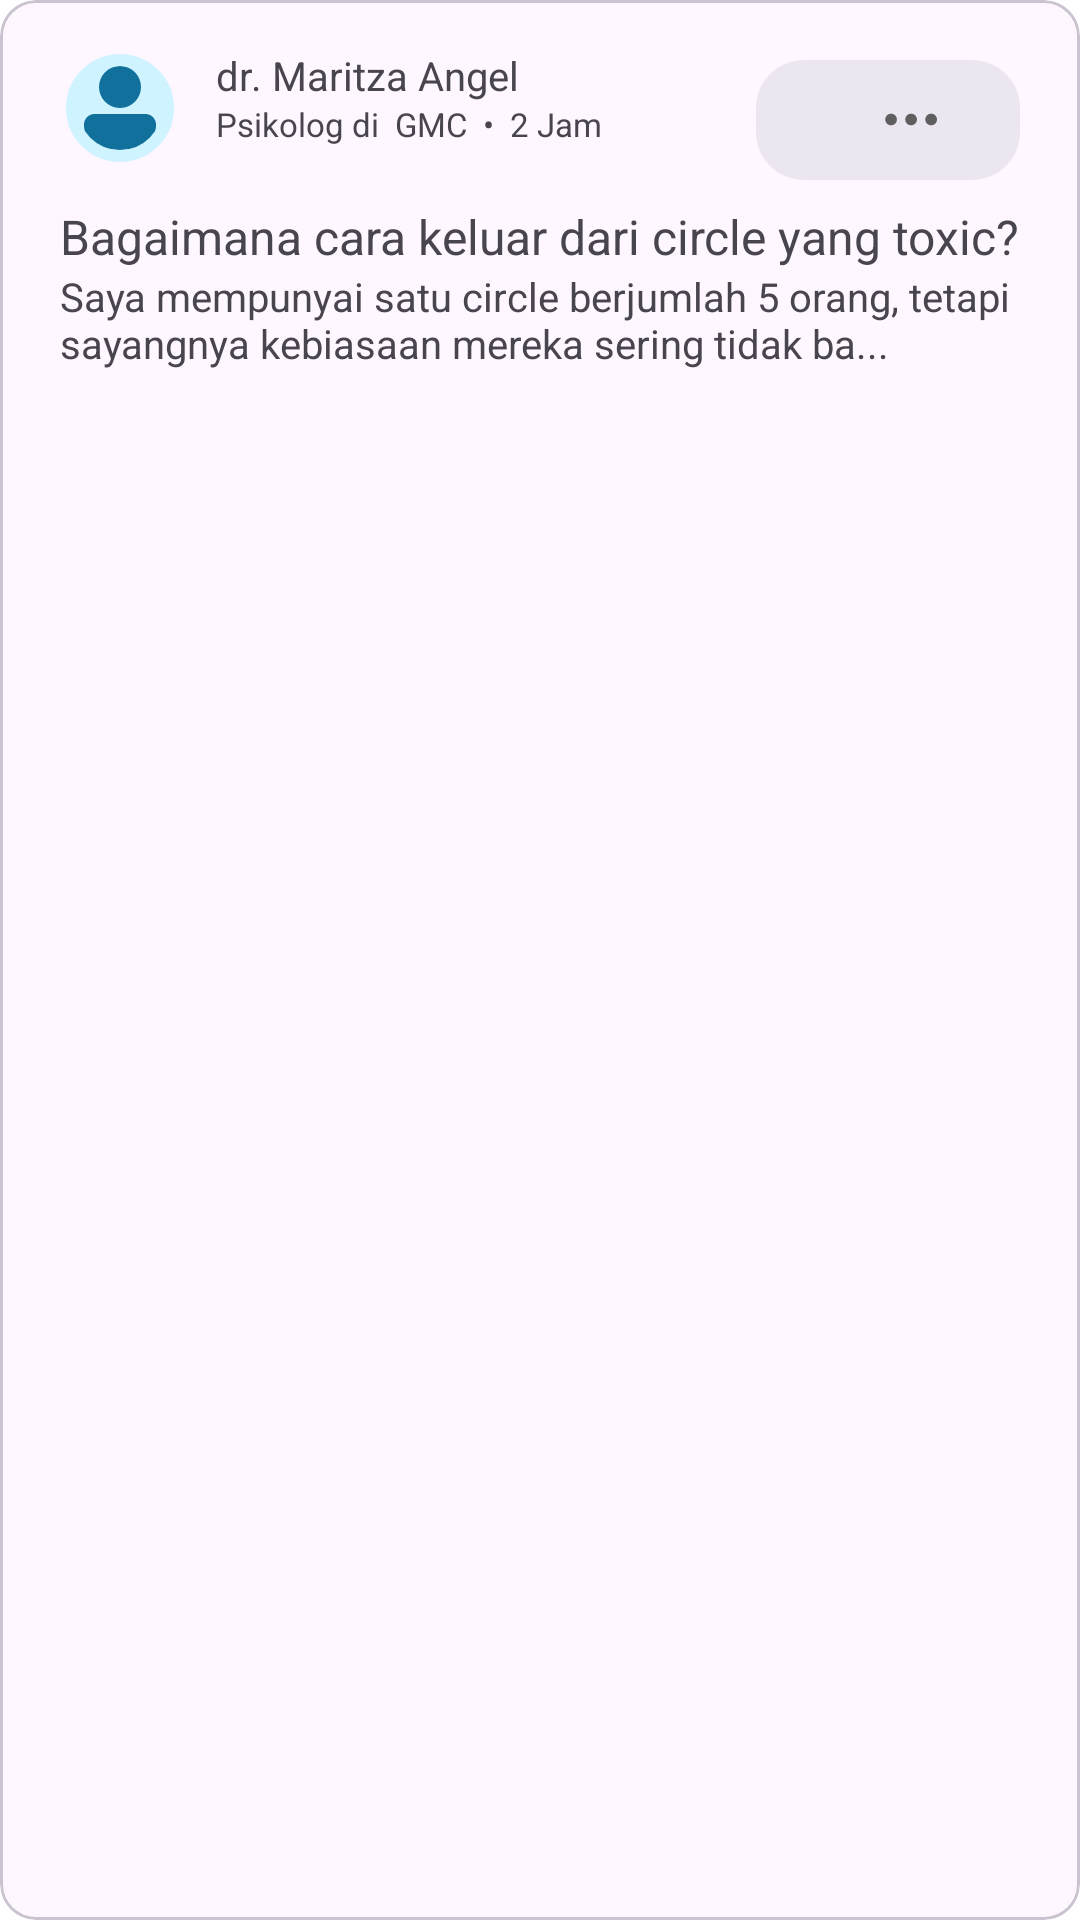

Icon click points for this 1080×1920 phone screenshot, format [x,y]:
user: [120,108]
